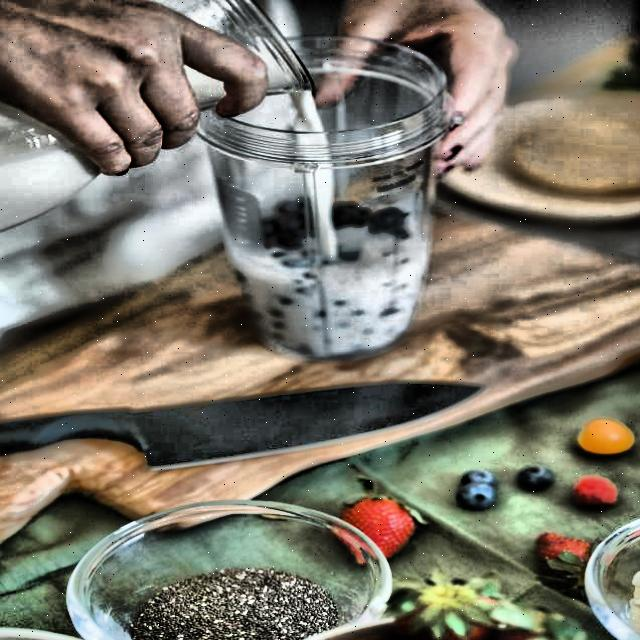knife: (0, 377, 493, 472)
